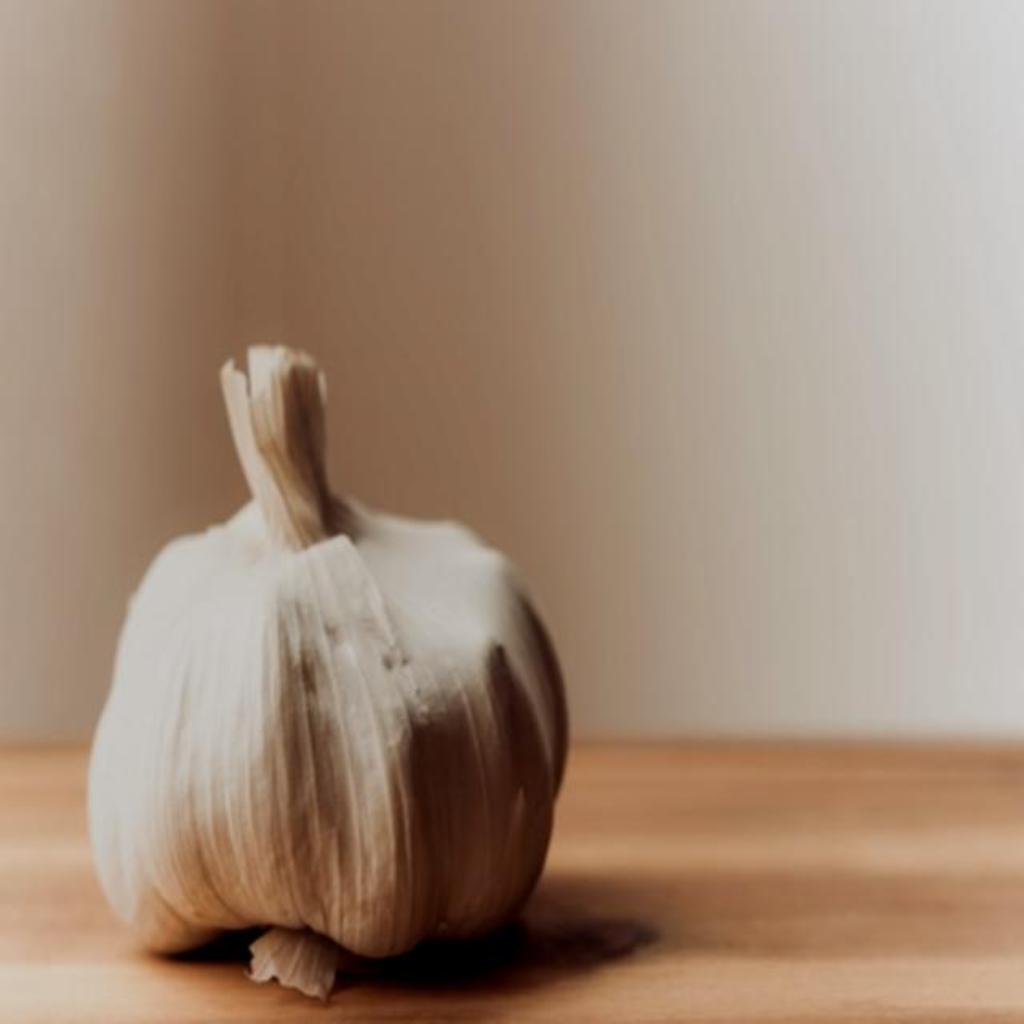garlic: (90, 346, 568, 989)
